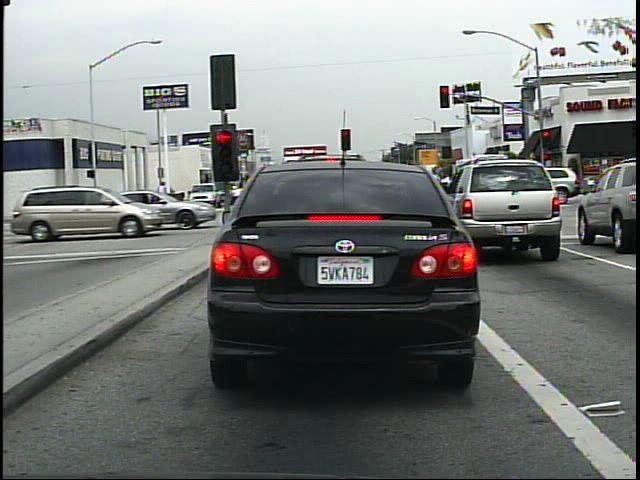person: (155, 179, 172, 199)
